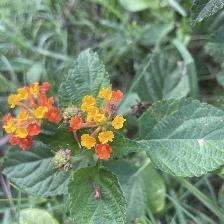common lanthana: (72, 89, 135, 163)
